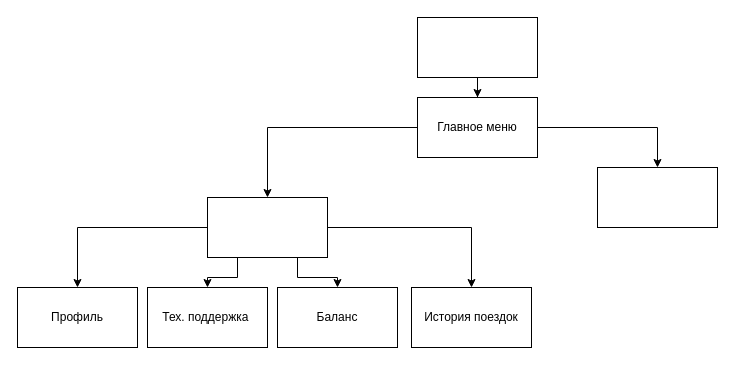
The diagram is 735 pixels wide and 365 high, and some of its shapes have lost their labels. Here are the shapes that lost their labels. From the top down, the centre of each, then its label:
At [477,47]: "Авторизация по номеру телефона".
At [657,197]: "Меню аренды самоката".
At [267,227]: "Меню управления".
